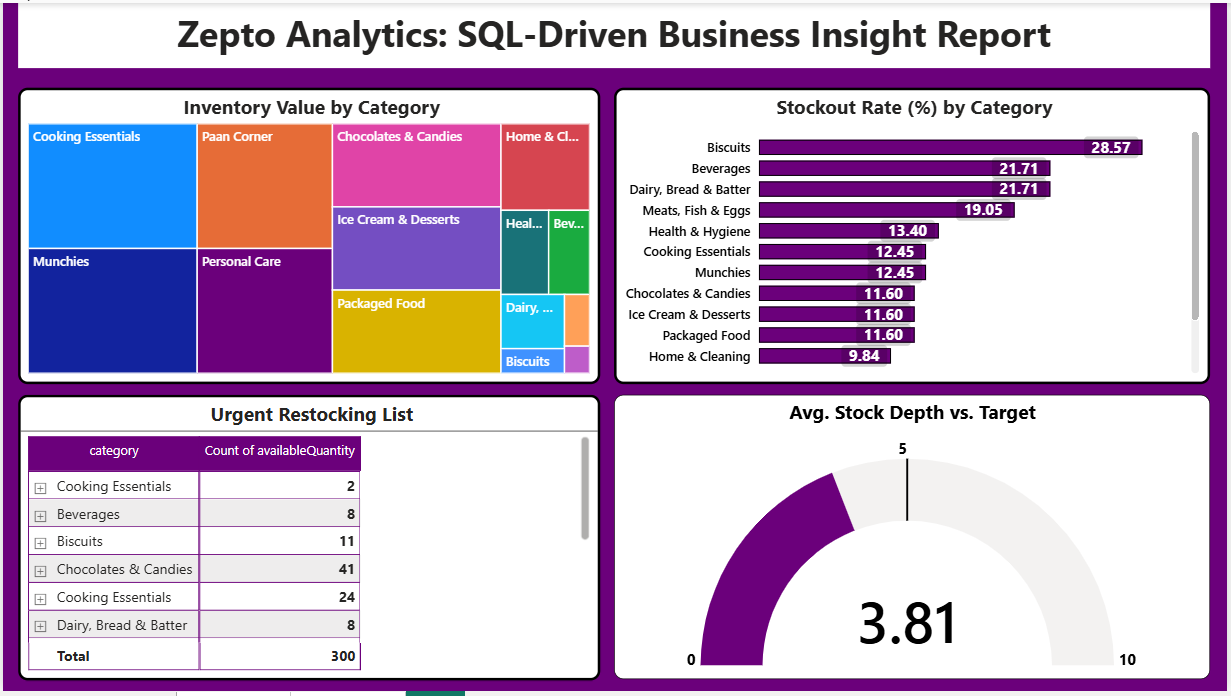

Layout of this report page (visuals, bound fields, positions):
{"tool":"powerbi","page":{"name":"Page 1","canvas":[1280,720],"ordinal":0},"visuals":[{"type":"treemap","title":"Inventory Value by Category","fields":{"Group":["first_query.category"],"Values":["Sum(first_query.total_inventory_value)"]},"box":[15.8,88.6,609.1,310.1],"z":0},{"type":"barChart","title":"Stockout Rate (%) by Category","fields":{"Category":["second_query.category"],"Y":["Sum(second_query.oos_rate)"]},"box":[639.2,88.6,623.3,310.1],"z":1000},{"type":"pivotTable","title":"Urgent Restocking List","fields":{"Rows":["fifth_query.category","fifth_query.name"],"Values":["CountNonNull(fifth_query.availableQuantity)"]},"box":[15.8,409.8,609.1,299],"z":2000},{"type":"textbox","box":[15.8,0,1246.7,68],"z":4000},{"type":"gauge","title":"Avg. Stock Depth vs. Target","fields":{"Y":["Avg(eighth_query.avg_stock_per_item)"],"MinValue":["zepto_cleaned_dataset.Minimum Stock Range"],"MaxValue":["zepto_cleaned_dataset.Maximum Stock Range"],"TargetValue":["zepto_cleaned_dataset.Target Stock Value"]},"box":[639.2,409.8,623.3,297.4],"z":4002}]}

Visuals, with their boxes in screenshot pixels (x1, y1, x2, y2), scaled from the page's 1280x720 canvas onto the 1231x696 screenshot:
"Inventory Value by Category" treemap: {"x1": 15, "y1": 86, "x2": 601, "y2": 385}
"Stockout Rate (%) by Category" barChart: {"x1": 615, "y1": 86, "x2": 1214, "y2": 385}
"Urgent Restocking List" pivotTable: {"x1": 15, "y1": 396, "x2": 601, "y2": 685}
textbox: {"x1": 15, "y1": 0, "x2": 1214, "y2": 66}
"Avg. Stock Depth vs. Target" gauge: {"x1": 615, "y1": 396, "x2": 1214, "y2": 684}
